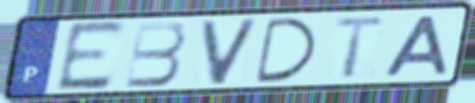A: (379, 14, 451, 79)
B: (122, 19, 189, 90)
D: (253, 16, 321, 85)
E: (53, 18, 129, 94)
T: (331, 14, 390, 81)
V: (198, 16, 261, 88)
